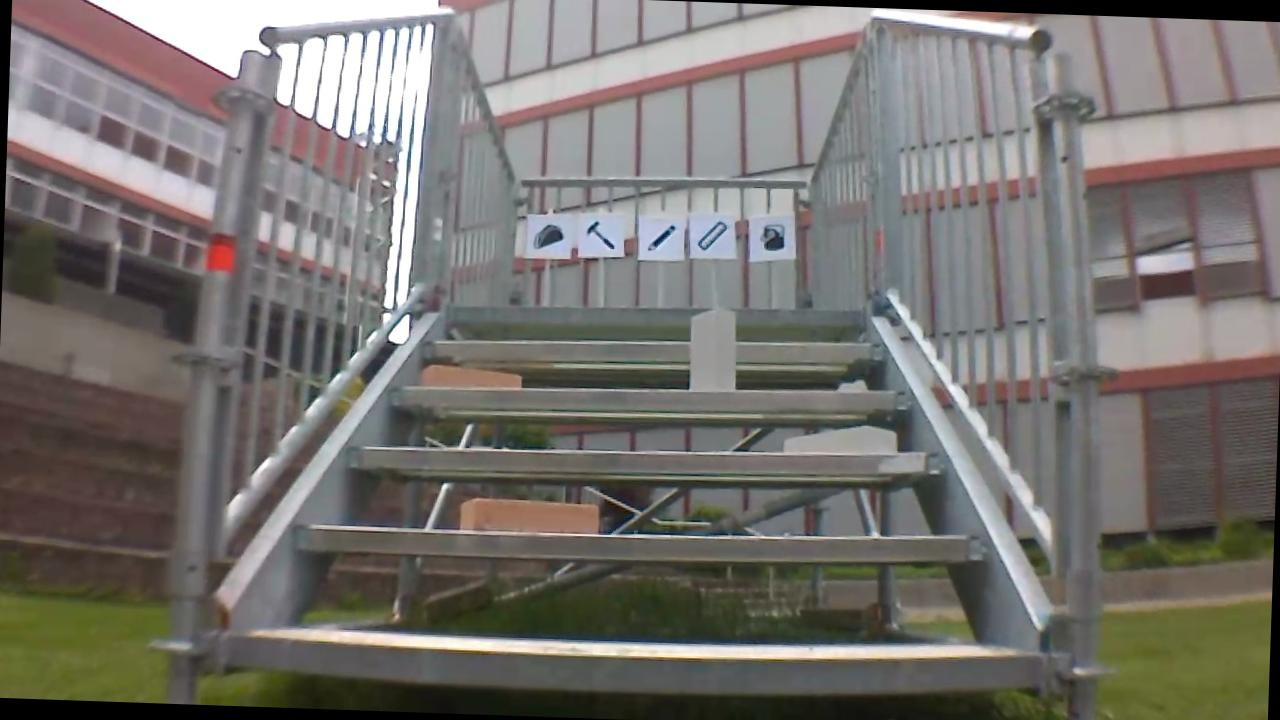brick: (458, 495, 597, 535), (689, 307, 737, 392), (784, 424, 895, 454), (421, 364, 520, 389)
bucket: (753, 219, 789, 253)
edge: (227, 623, 1042, 706), (295, 513, 988, 572), (348, 431, 947, 483), (390, 371, 912, 420), (421, 328, 885, 371), (451, 294, 866, 334)
hammer: (582, 215, 619, 250)
pencil: (643, 219, 679, 255)
ruler: (694, 215, 730, 257)
steps: (225, 280, 1062, 712)
taco: (529, 220, 565, 254)
